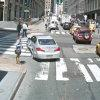Crosswalk: (19, 58, 99, 84)
